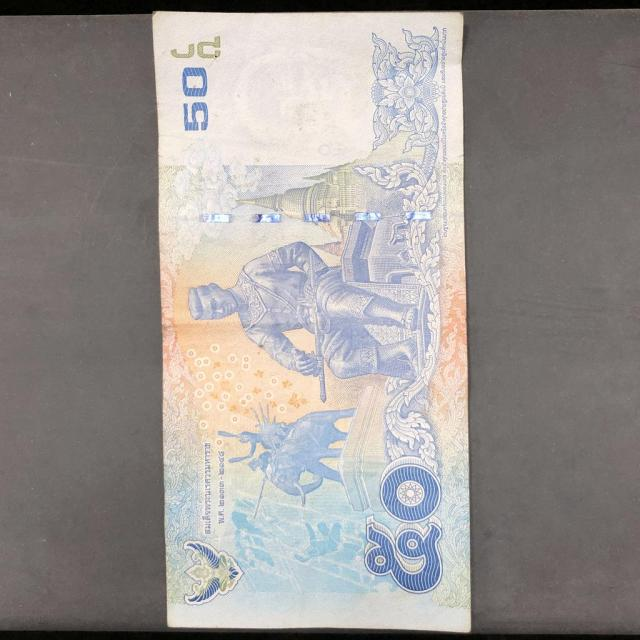THAI50: (153, 12, 469, 629)
